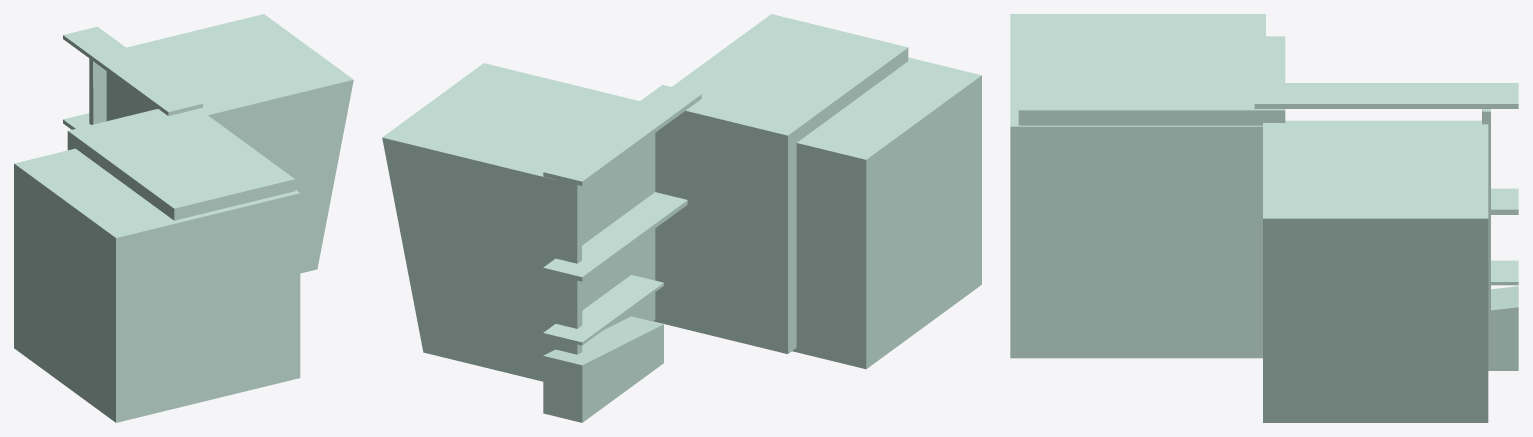
The picture shows the model from 3 angles, left to right: view 1: azimuth 30°, elevation 25°; view 2: azimuth 150°, elevation 25°; view 3: azimuth 270°, elevation 25°; orthographic projection. The views are drawn at different scales.
Parts seen in each view (by area): view 1: Renderer Node; view 2: Renderer Node; view 3: Renderer Node.
Boxes of the visible parts, <box> form: Renderer Node: <box>14,14,353,422</box>; Renderer Node: <box>382,14,981,422</box>; Renderer Node: <box>1010,14,1518,422</box>.
Size of the model in its own units: 1.38 by 0.8281 by 1.43.
